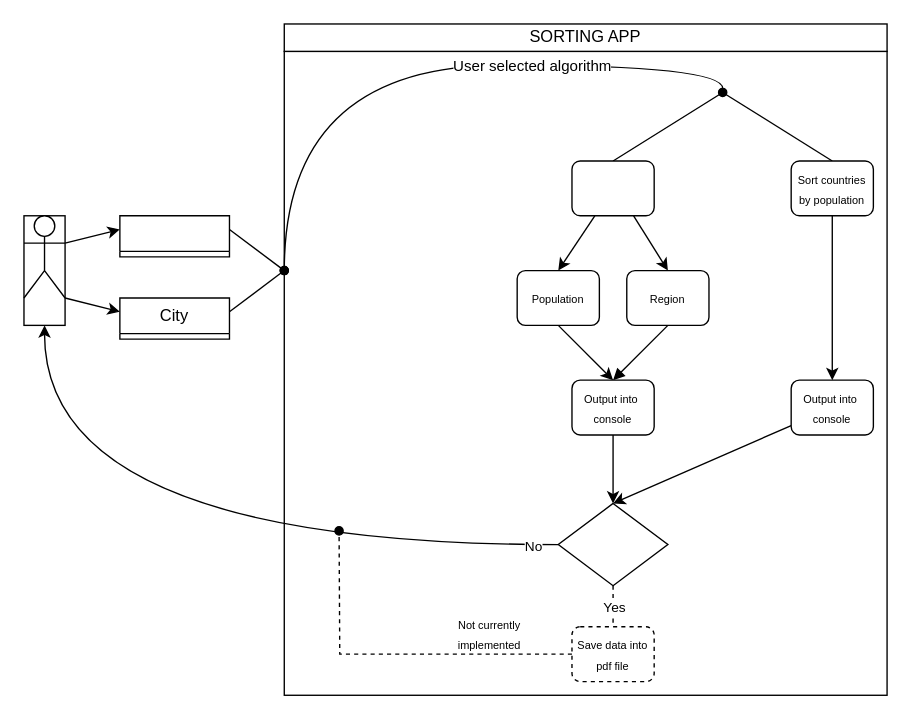
Image size: 911x719. Some labels were removed from this diagram. The shapes that lost their labels are listed below. From the top down, each one's centre as x and y in pixels, then its label:
At (x=612, y=188): "Sort cities by:".
At (x=174, y=235): "Country".
At (x=44, y=256): "Igor".
At (x=612, y=544): "Export data?".
